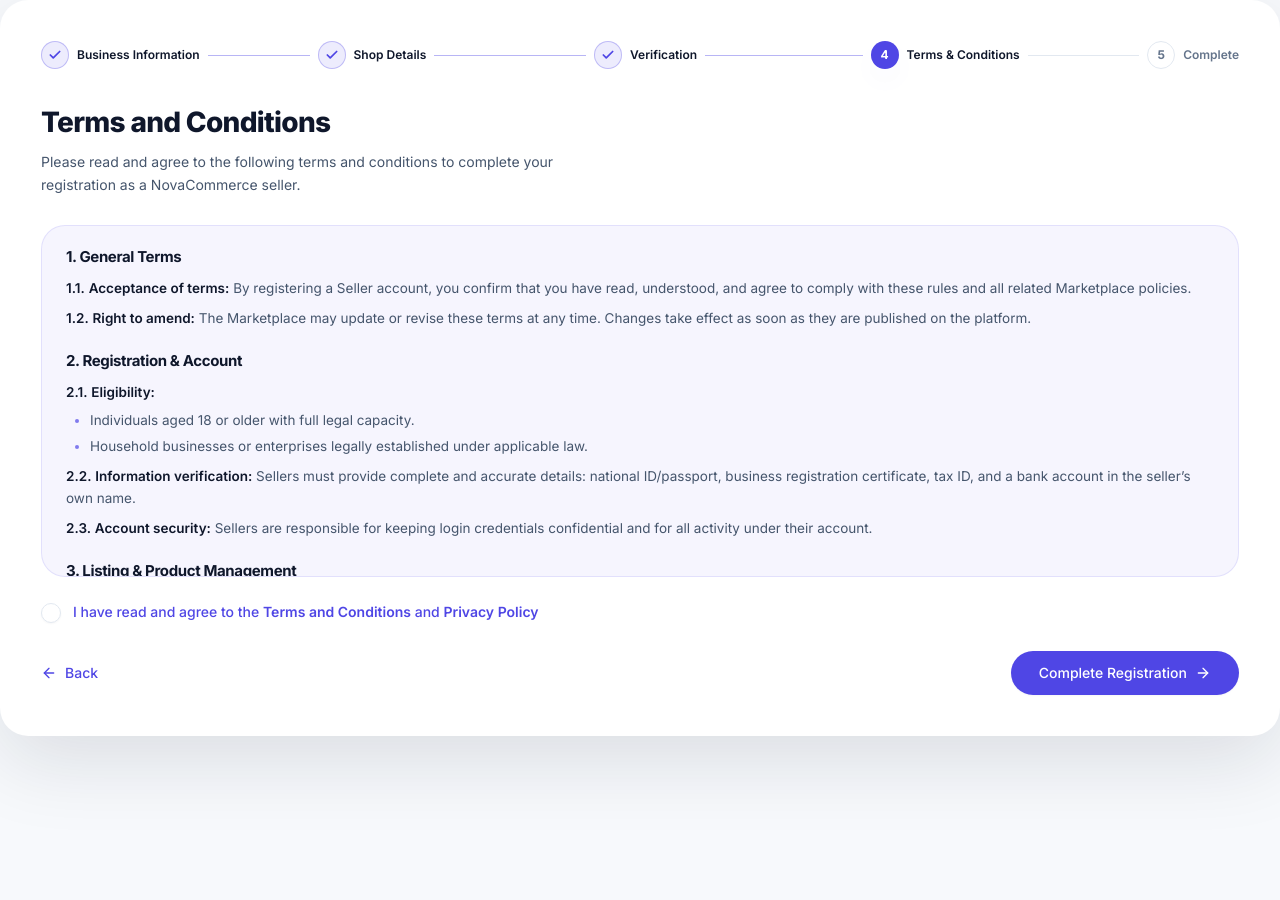
Test case: SellerRegisterForm terms › keeps the user on terms when agreements are not accepted
Click the button "Complete Registration" at {"x": 1125, "y": 673}, box [1011,651,1239,695]
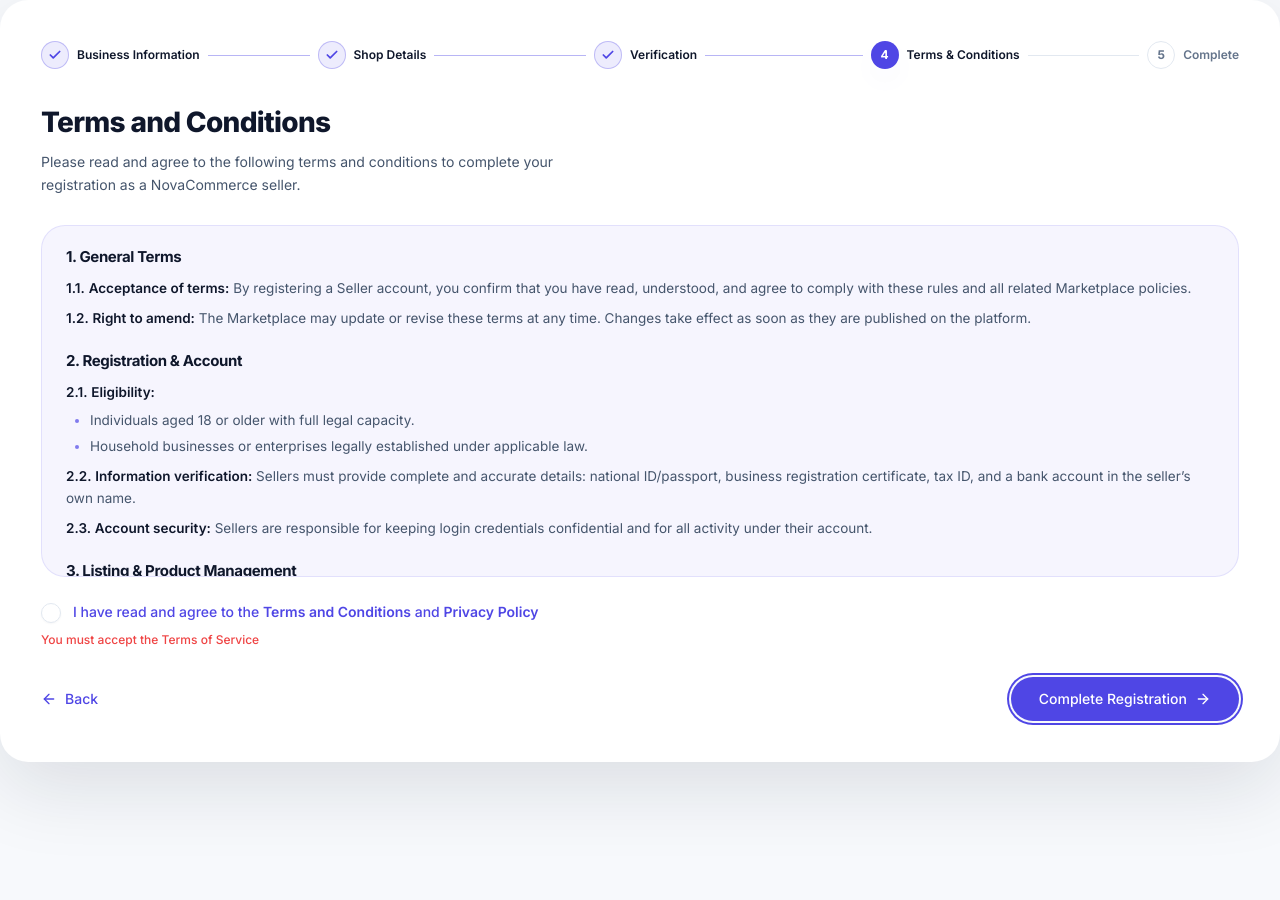
Expected: the heading "Terms and Conditions" is shown, [41,105,330,139]
Expected: the text "You must accept the Terms of Service" is shown, [41,632,259,647]
